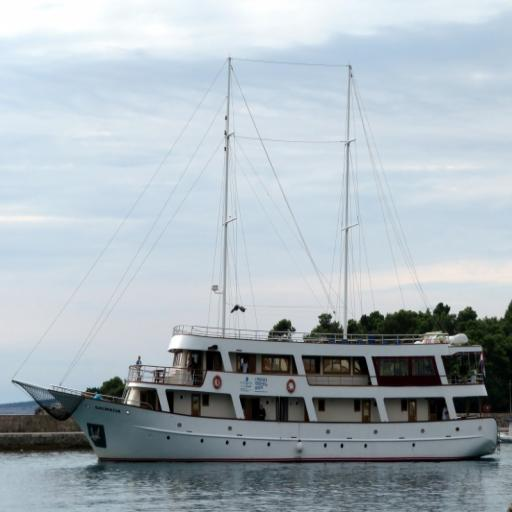cruises: (49, 310, 505, 470)
